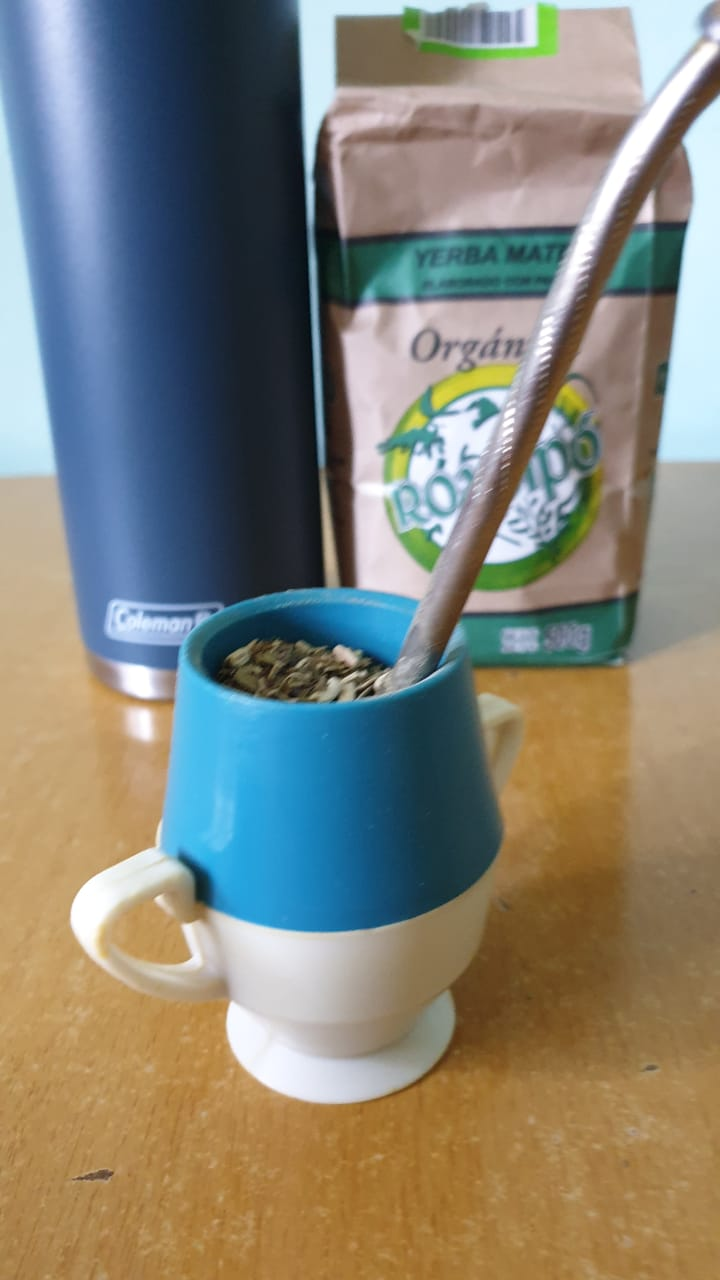mate: (56, 545, 573, 1137)
plastico: (76, 583, 553, 1123)
